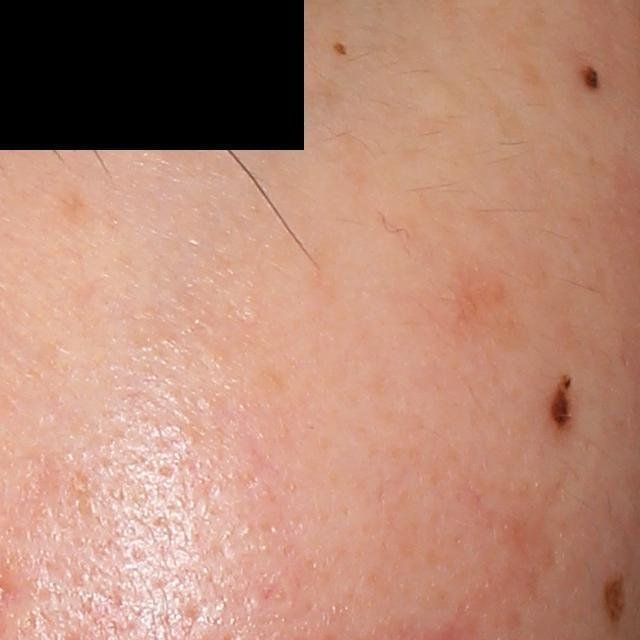melasma: (55, 184, 91, 228)
nevus: (548, 370, 574, 431), (602, 575, 626, 624), (578, 59, 603, 91), (331, 40, 349, 57)
